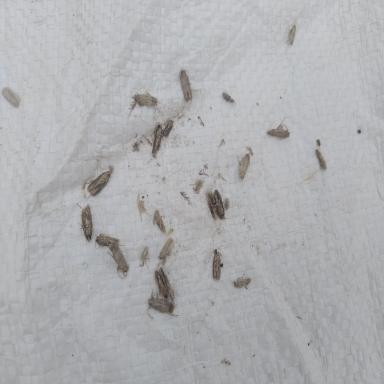pbw: (108, 243, 131, 278), (85, 169, 111, 198), (148, 295, 180, 316), (173, 69, 193, 102), (134, 83, 158, 108), (80, 203, 94, 244), (266, 117, 290, 139), (212, 188, 228, 220), (2, 85, 23, 109), (154, 266, 170, 297), (154, 237, 174, 261), (96, 231, 120, 248), (151, 123, 163, 156), (238, 152, 251, 179), (152, 208, 166, 232), (229, 272, 251, 287), (212, 250, 223, 278), (315, 148, 328, 170), (138, 245, 150, 267), (288, 18, 297, 45), (206, 194, 216, 218), (222, 90, 236, 107), (163, 118, 174, 136)
